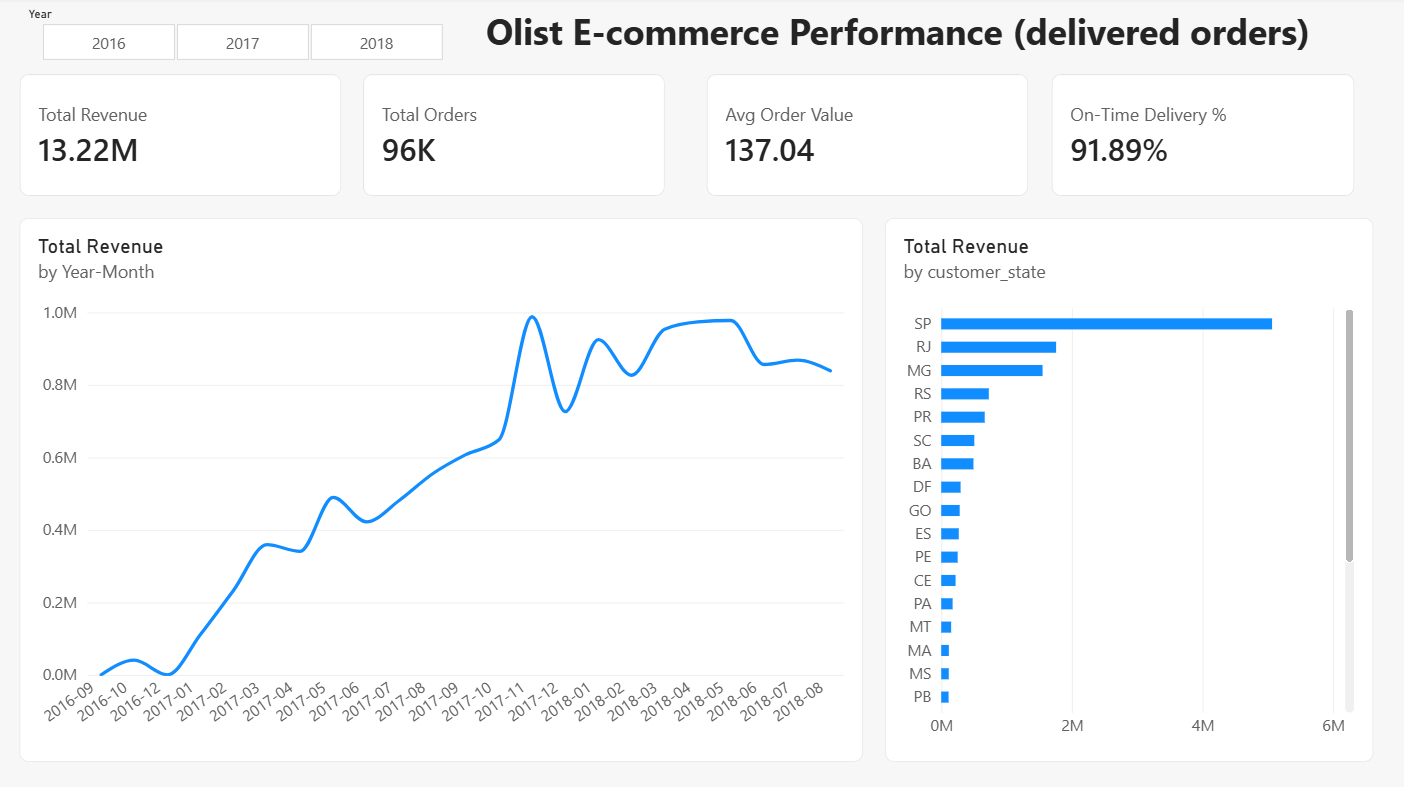

The page's visual inventory and layout, read from the dashboard file:
{"tool":"powerbi","page":{"name":"Page 1","canvas":[1280,720],"ordinal":0},"visuals":[{"type":"lineChart","fields":{"Category":["Date Table.Year-Month"],"Y":["olist_orders_clean.Total Revenue"]},"box":[20,200,760,490],"z":0},{"type":"cardVisual","fields":{"Data":["olist_orders_clean.Total Orders"]},"box":[330,70,272,110],"z":1000},{"type":"cardVisual","fields":{"Data":["olist_orders_clean.Avg Order Value"]},"box":[640,70,290,110],"z":2000},{"type":"cardVisual","fields":{"Data":["Date Table.On-Time Delivery %"]},"box":[950,70,273,110],"z":3000},{"type":"clusteredBarChart","fields":{"Category":["olist_orders_clean.customer_state"],"Y":["olist_orders_clean.Total Revenue"]},"box":[800,200,440,490],"z":4000},{"type":"slicer","fields":{"Values":["Date Table.Year"]},"box":[20,10,400,50],"z":5000},{"type":"cardVisual","fields":{"Data":["olist_orders_clean.Total Revenue"]},"box":[20,70,290,110],"z":6000},{"type":"textbox","box":[440,10,800,50],"z":6001}]}

Visuals, with their boxes in screenshot pixels (x1, y1, x2, y2), scaled from the page's 1280x720 canvas onto the 1404x787 screenshot:
lineChart - Date Table.Year-Month x olist_orders_clean.Total Revenue: {"x1": 22, "y1": 219, "x2": 856, "y2": 754}
cardVisual - olist_orders_clean.Total Orders: {"x1": 362, "y1": 77, "x2": 660, "y2": 197}
cardVisual - olist_orders_clean.Avg Order Value: {"x1": 702, "y1": 77, "x2": 1020, "y2": 197}
cardVisual - Date Table.On-Time Delivery %: {"x1": 1042, "y1": 77, "x2": 1341, "y2": 197}
clusteredBarChart - olist_orders_clean.customer_state x olist_orders_clean.Total Revenue: {"x1": 878, "y1": 219, "x2": 1360, "y2": 754}
slicer - Date Table.Year: {"x1": 22, "y1": 11, "x2": 461, "y2": 66}
cardVisual - olist_orders_clean.Total Revenue: {"x1": 22, "y1": 77, "x2": 340, "y2": 197}
textbox: {"x1": 483, "y1": 11, "x2": 1360, "y2": 66}
